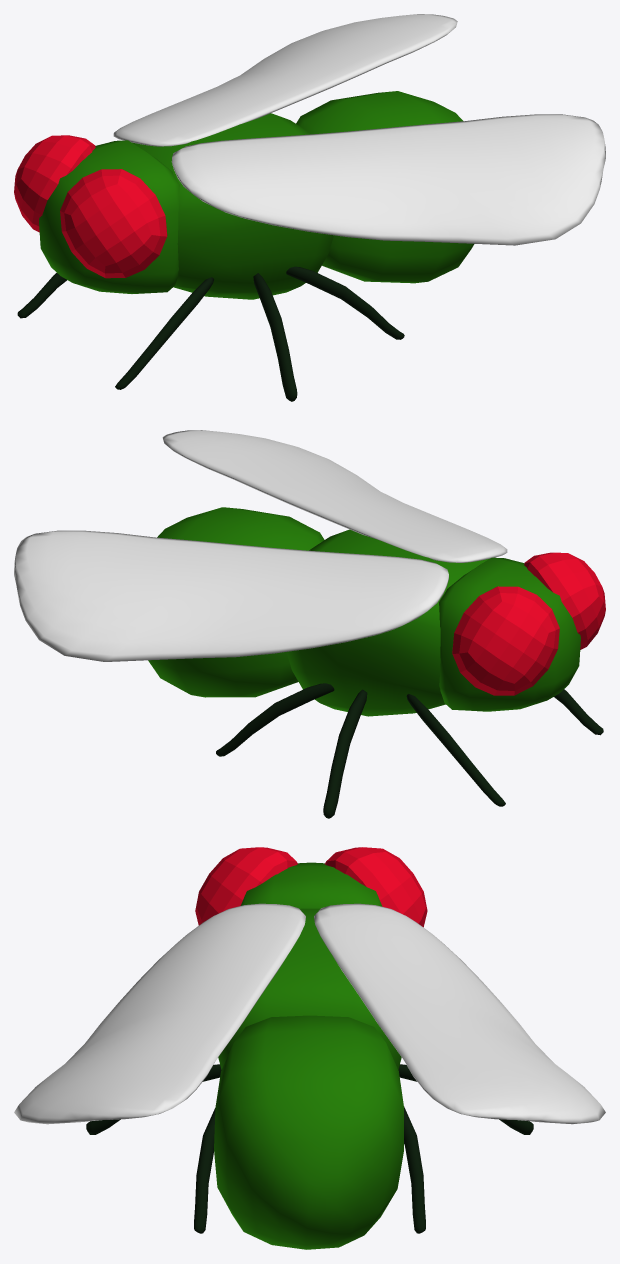
Rendered from 苍蝇动画.fbx.
3 views of the same model, one above another, from view 1: azimuth 30°, elevation 25°; view 2: azimuth 150°, elevation 25°; view 3: azimuth 270°, elevation 25° (orthographic). The views are drawn at different scales.
Visible parts, largest first — view 1: 苍蝇; view 2: 苍蝇; view 3: 苍蝇.
Boxes of the visible parts, x1,y1,x2,y2 form: 苍蝇: [14, 14, 605, 401]; 苍蝇: [14, 430, 605, 818]; 苍蝇: [14, 847, 605, 1249].
Size of the model in its own units: 112 by 46.73 by 106.
